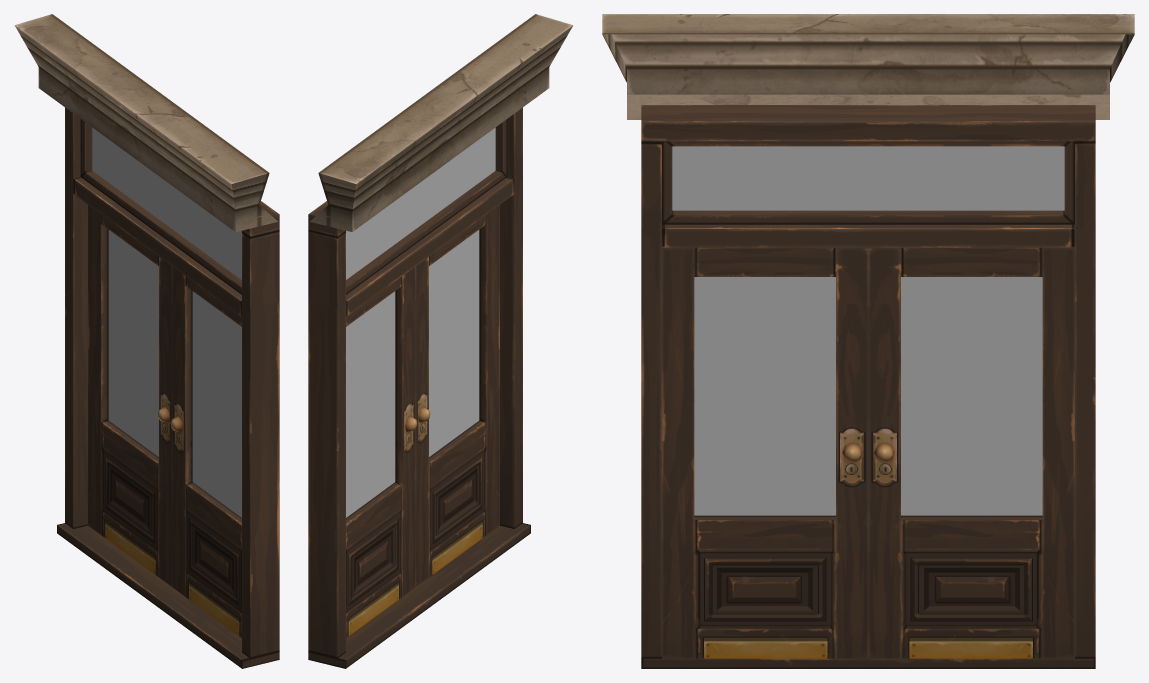
Rendered from door11.FBX.
3 renders of one model, left to right at view 1: azimuth 30°, elevation 25°; view 2: azimuth 150°, elevation 25°; view 3: azimuth 270°, elevation 25°, orthographic. The views are drawn at different scales.
Parts seen in each view (by area): view 1: door11_frame, door11_L, door11_R, door11_glassL, door11_glassR, door11_glass; view 2: door11_frame, door11_R, door11_L, door11_glassR, door11_glassL, door11_glass; view 3: door11_frame, door11_L, door11_R, door11_glassL, door11_glassR, door11_glass.
Part boxes in pixels (<box>): door11_frame: <box>14,14,279,668</box>; door11_L: <box>88,205,172,586</box>; door11_R: <box>170,266,241,637</box>; door11_glassL: <box>108,230,158,456</box>; door11_glassR: <box>192,291,241,517</box>; door11_glass: <box>92,127,241,279</box>; door11_frame: <box>308,14,573,668</box>; door11_R: <box>415,205,499,586</box>; door11_L: <box>346,266,417,637</box>; door11_glassR: <box>429,230,479,456</box>; door11_glassL: <box>346,291,395,517</box>; door11_glass: <box>346,127,495,279</box>; door11_frame: <box>602,14,1134,668</box>; door11_L: <box>868,247,1074,658</box>; door11_R: <box>662,247,868,658</box>; door11_glassL: <box>901,277,1042,515</box>; door11_glassR: <box>694,277,835,515</box>; door11_glass: <box>672,146,1064,210</box>.
Bounding box in the file's own units: 48.71 × 331 × 258.
